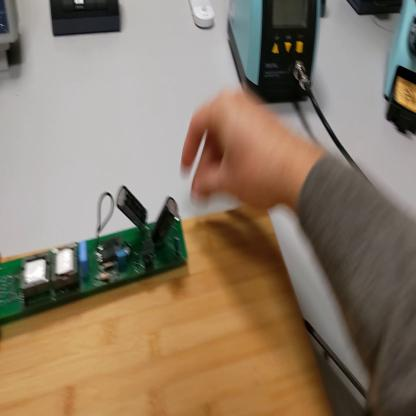hand: (181, 90, 288, 212)
high voltage board: (2, 187, 197, 323)
oscilloscope: (1, 2, 22, 74)
screwdriver-: (301, 314, 369, 397)
socket: (349, 2, 403, 17), (320, 3, 329, 18)
welder base: (383, 3, 416, 137)
welder station: (230, 3, 323, 106)
working area: (1, 204, 336, 416)
